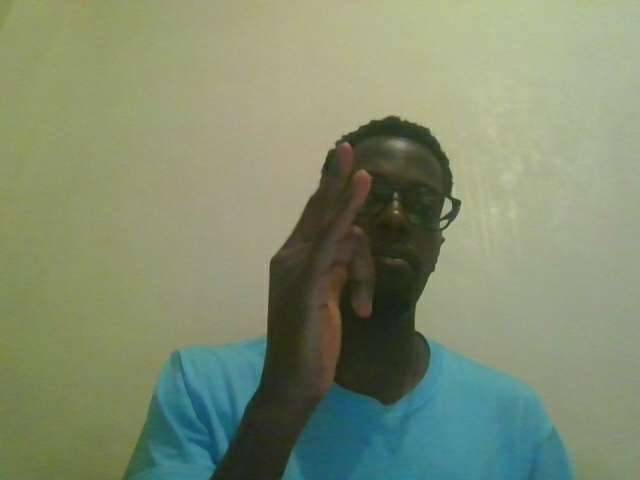I Love You: (263, 148, 378, 417)
